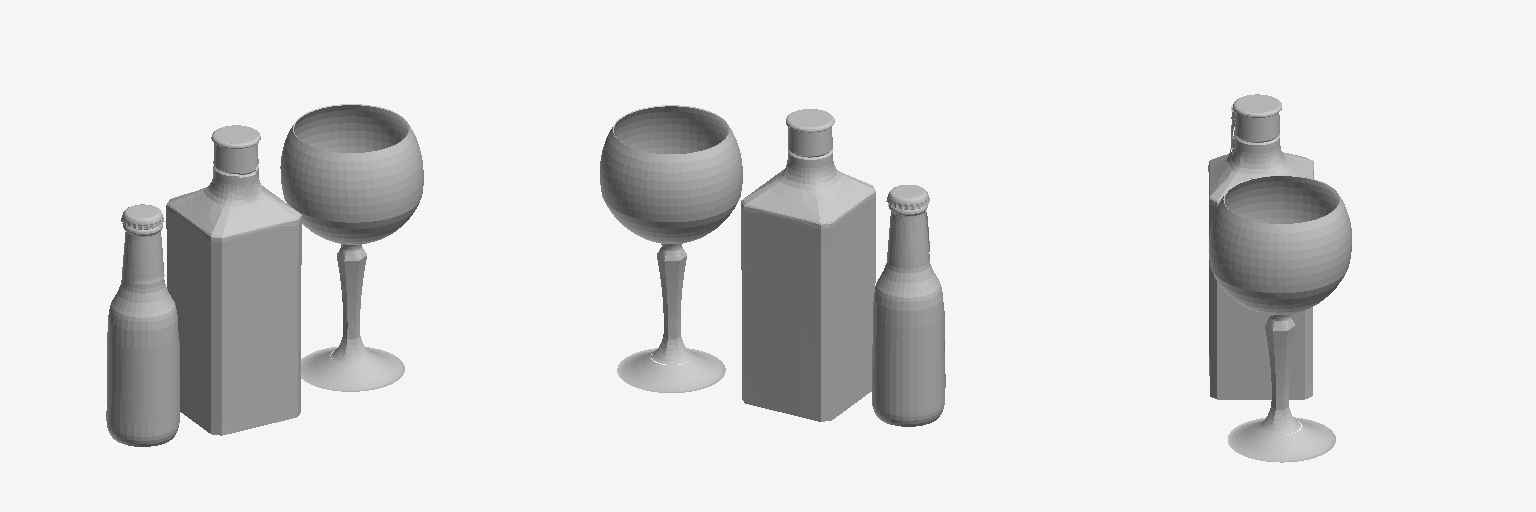
File: Bombay.obj
3 views of the same model, side by side, from view 1: azimuth 30°, elevation 25°; view 2: azimuth 150°, elevation 25°; view 3: azimuth 270°, elevation 25° (orthographic).
Size of the model in its own units: 28.31 by 23.41 by 11.18.